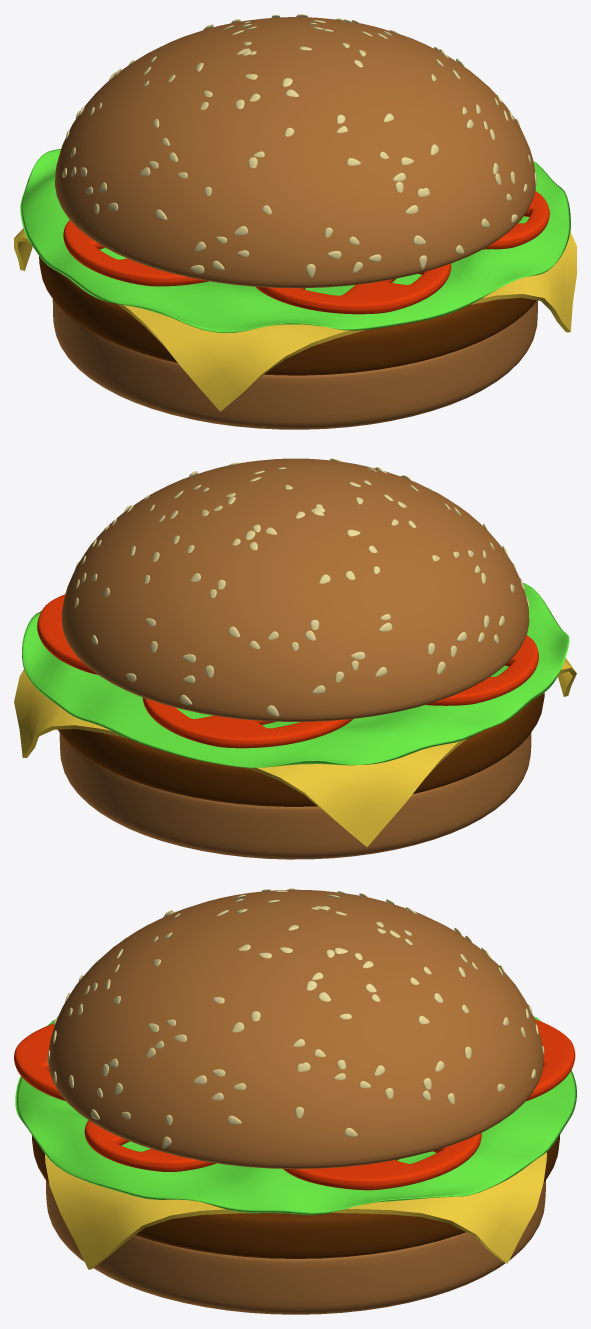
The model's file is big-burger.glb.
The picture shows the model from 3 angles, top to bottom: view 1: azimuth 30°, elevation 25°; view 2: azimuth 150°, elevation 25°; view 3: azimuth 270°, elevation 25°; orthographic projection. The views are drawn at different scales.
Visible parts, largest first — view 1: BreadTop, BreadBottom, Plane, Steak, Plane.007, Plane.003; view 2: BreadTop, BreadBottom, Plane, Steak, Plane.007, Plane.003; view 3: BreadTop, Plane, BreadBottom, Plane.007, Steak, Plane.003.
Part boxes in pixels (x1,y1,x2,y2): BreadTop: (55,17,535,288); BreadBottom: (52,299,537,429); Plane: (20,149,570,332); Steak: (39,256,536,375); Plane.007: (14,228,576,411); Plane.003: (63,191,549,314); BreadTop: (61,458,529,721); BreadBottom: (59,733,531,859); Plane: (22,583,569,767); Steak: (58,693,544,806); Plane.007: (14,658,576,846); Plane.003: (37,594,538,748); BreadTop: (48,889,543,1168); Plane: (15,1016,576,1215); BreadBottom: (46,1180,545,1314); Plane.007: (45,1152,546,1269); Steak: (32,1135,559,1258); Plane.003: (14,1019,575,1190).
Bounding box in the file's own units: 2.23 × 1.29 × 2.24.
